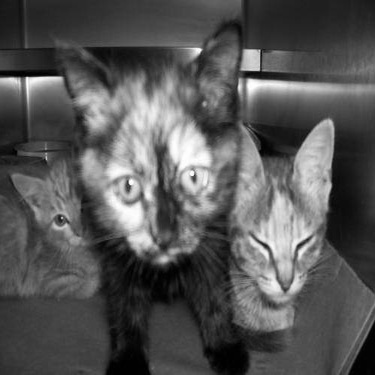cat: (53, 20, 251, 369), (228, 117, 335, 352), (5, 150, 105, 301)
